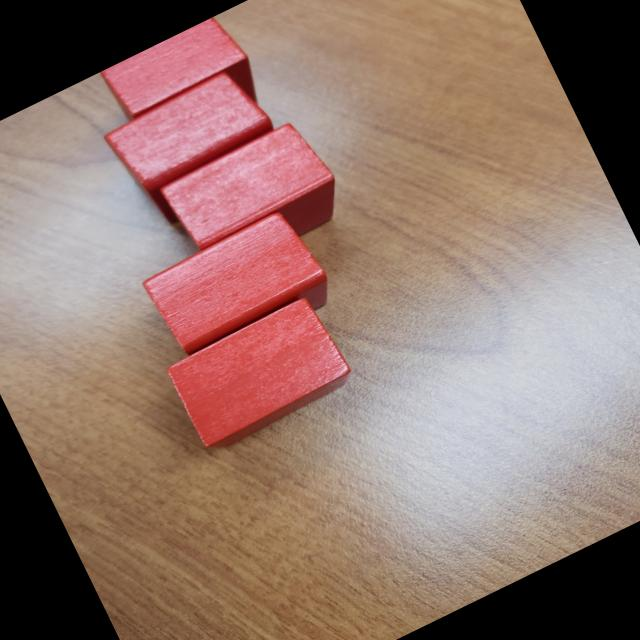red: (154, 111, 355, 285), (139, 203, 338, 373), (100, 62, 294, 236), (162, 290, 358, 457), (98, 10, 272, 166)
